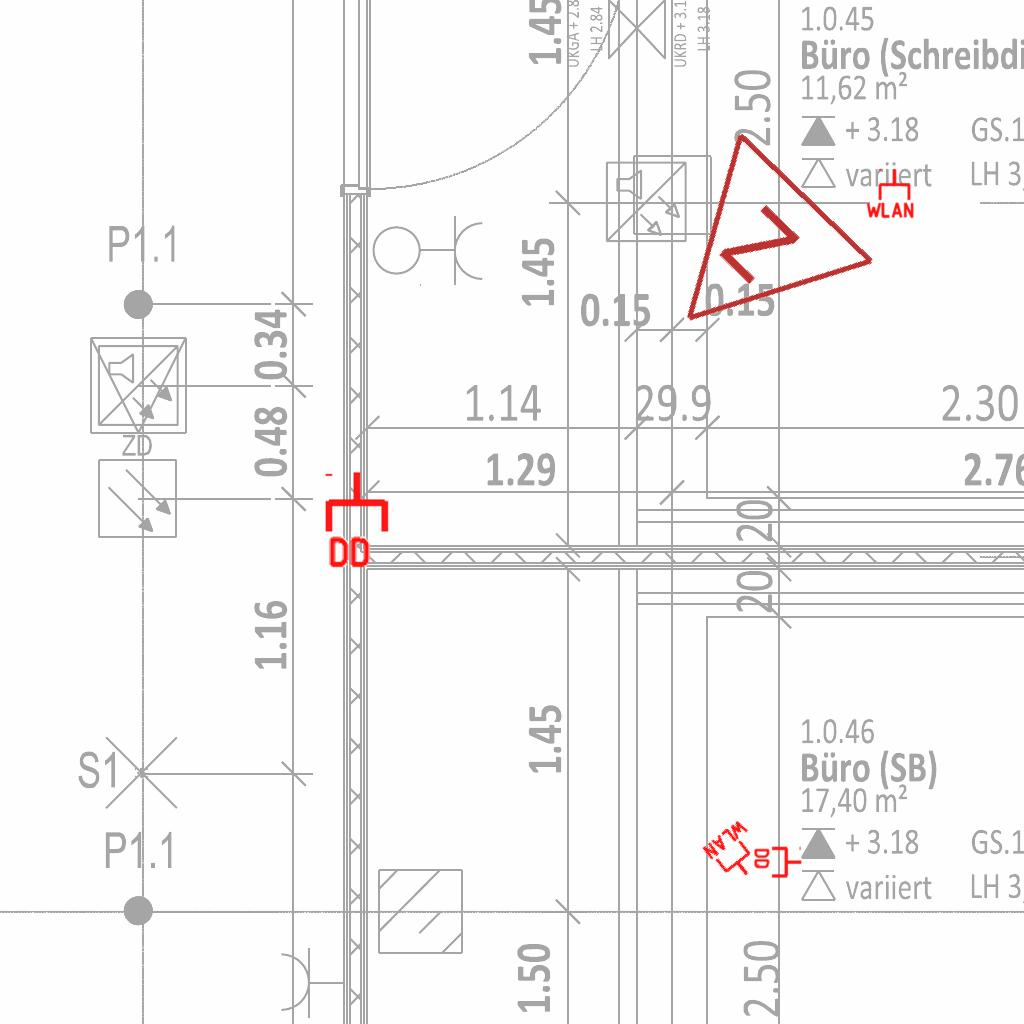Datenanschluss_zweifach: (324, 469, 393, 572), (752, 846, 803, 880)
WLAN: (699, 816, 773, 890), (864, 167, 916, 219)
Zimmersignalleuchte: (610, 118, 890, 400)
